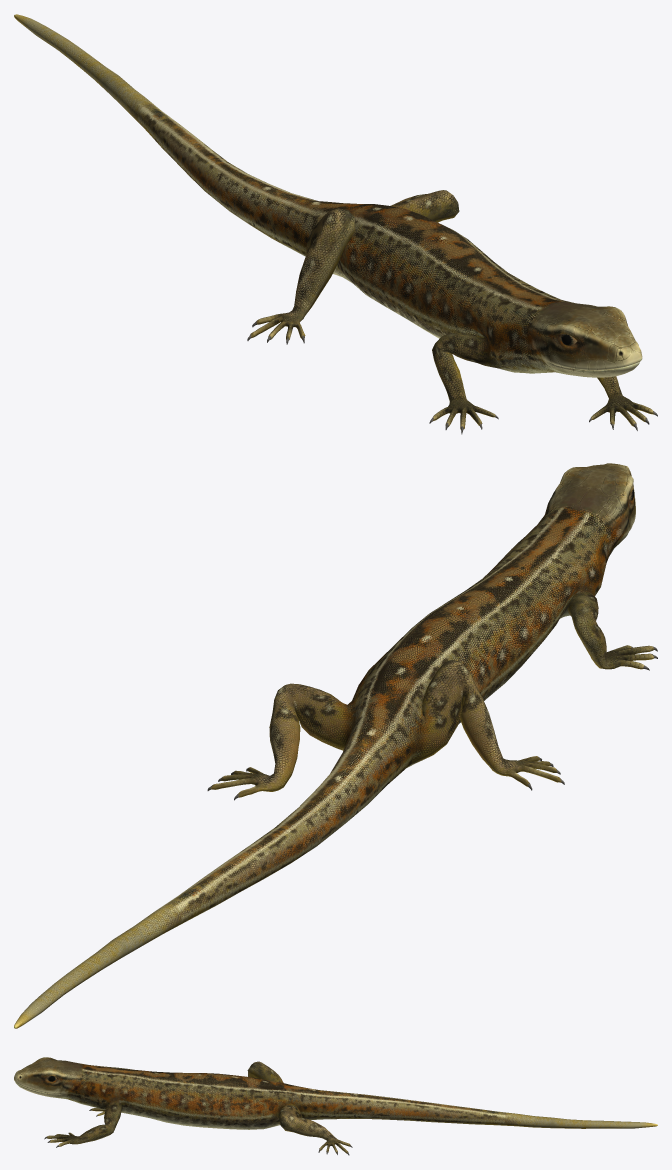
The model's file is Running183.obj.
The picture shows the model from 3 angles, top to bottom: view 1: azimuth 30°, elevation 25°; view 2: azimuth 150°, elevation 25°; view 3: azimuth 270°, elevation 25°; orthographic projection. The views are drawn at different scales.
Visible parts, largest first — view 1: Lizard; view 2: Lizard; view 3: Lizard.
Boxes of the visible parts, x1,y1,x2,y2 form: Lizard: [14, 14, 657, 434]; Lizard: [14, 463, 657, 1028]; Lizard: [14, 1057, 657, 1155].
Size of the model in its own units: 25.34 by 12.1 by 104.
